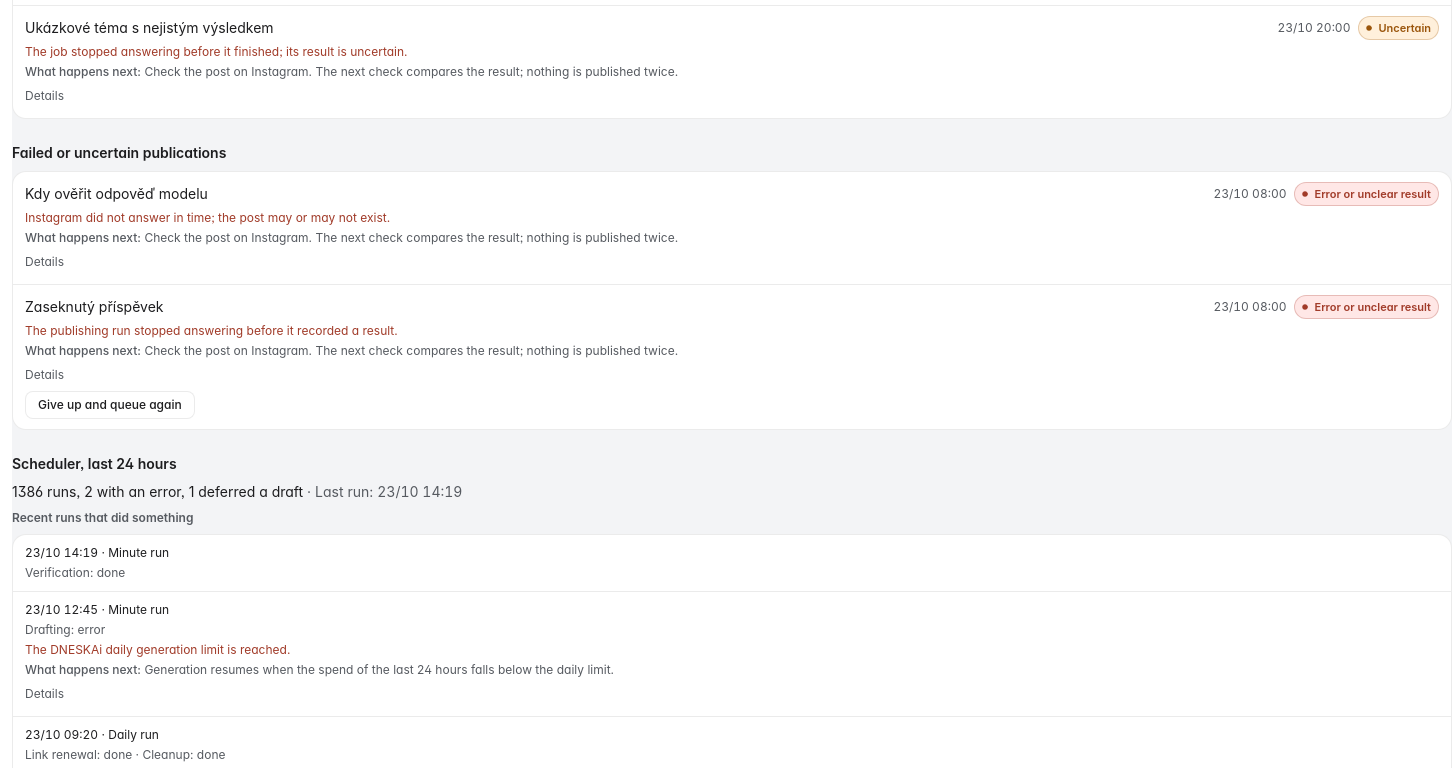
Scenario: Errors and costs keeps measured, booked and unknown apart › offers "give up and queue again" only on a publication the server marks requeueable, and confirms in place (approval-04)
(page scrolled)
Click the button "Give up and queue again". click: [110, 405]
box: [25,391,195,419]
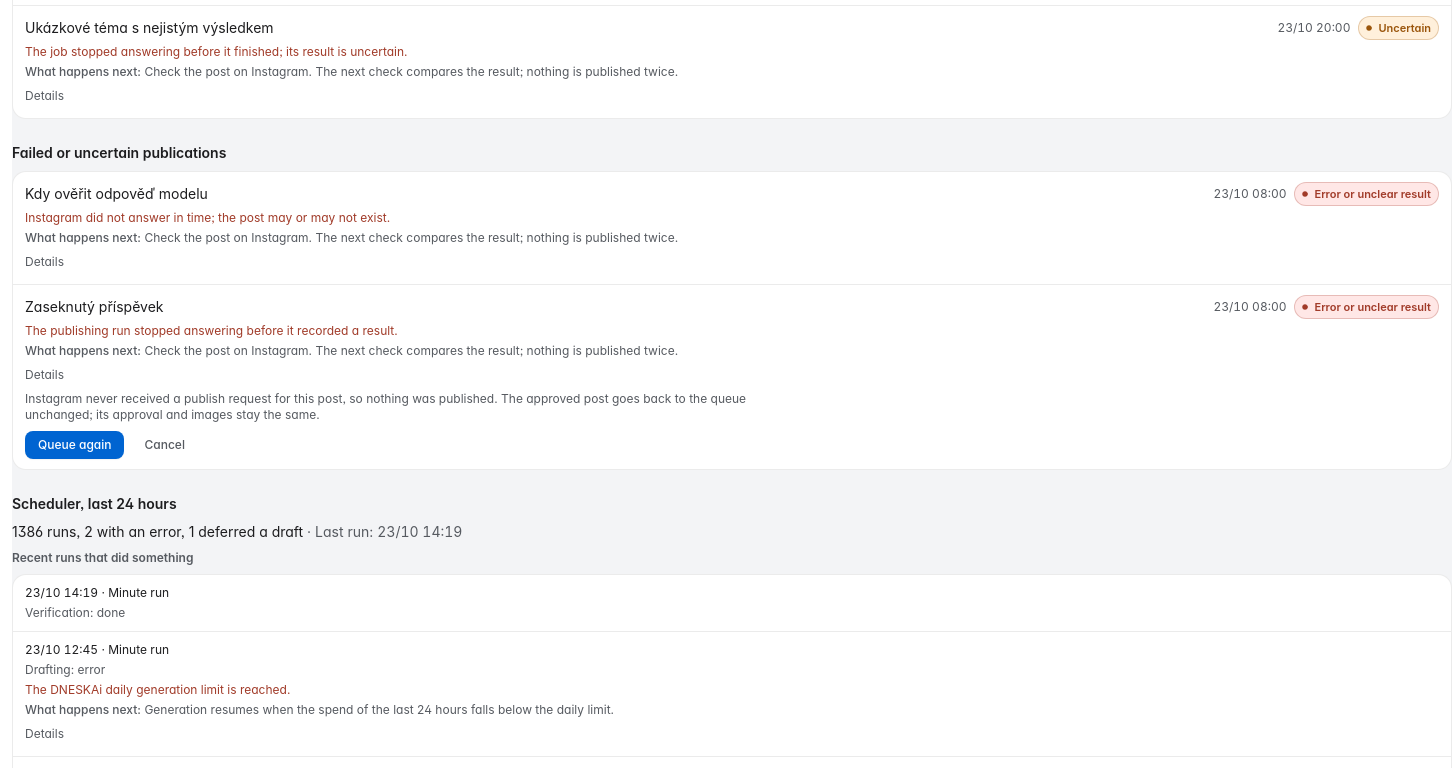
Result: the element with test id "dneskai-requeue" shows "Instagram never received a publish request for this post, so nothing was published. The approved post goes back to the queue unchanged; its approval and images" at [25,391,746,422]
Click the button "Queue again". click: [75, 445]
box: [25,431,124,459]
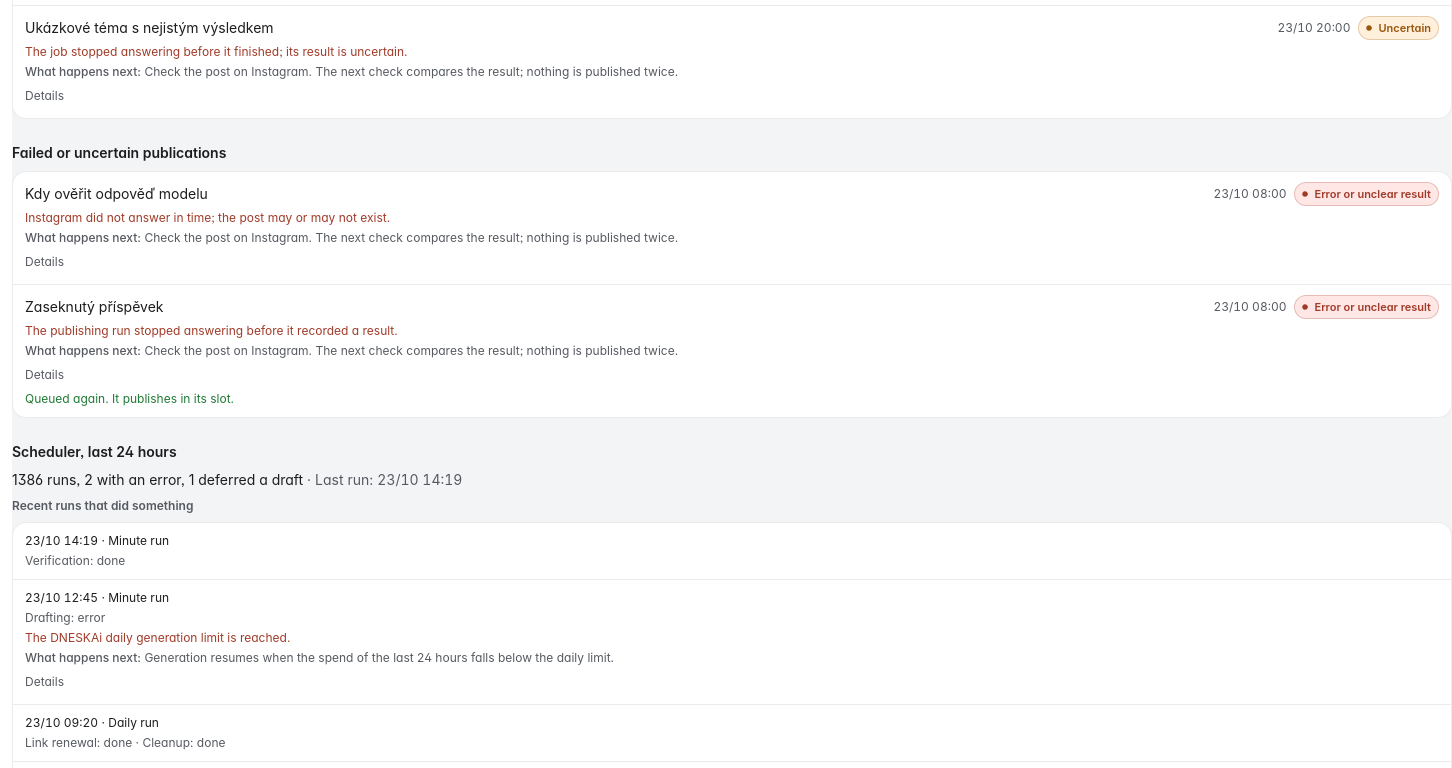
Result: the message "Queued again. It publishes in its slot." is shown at [25,391,234,406]
